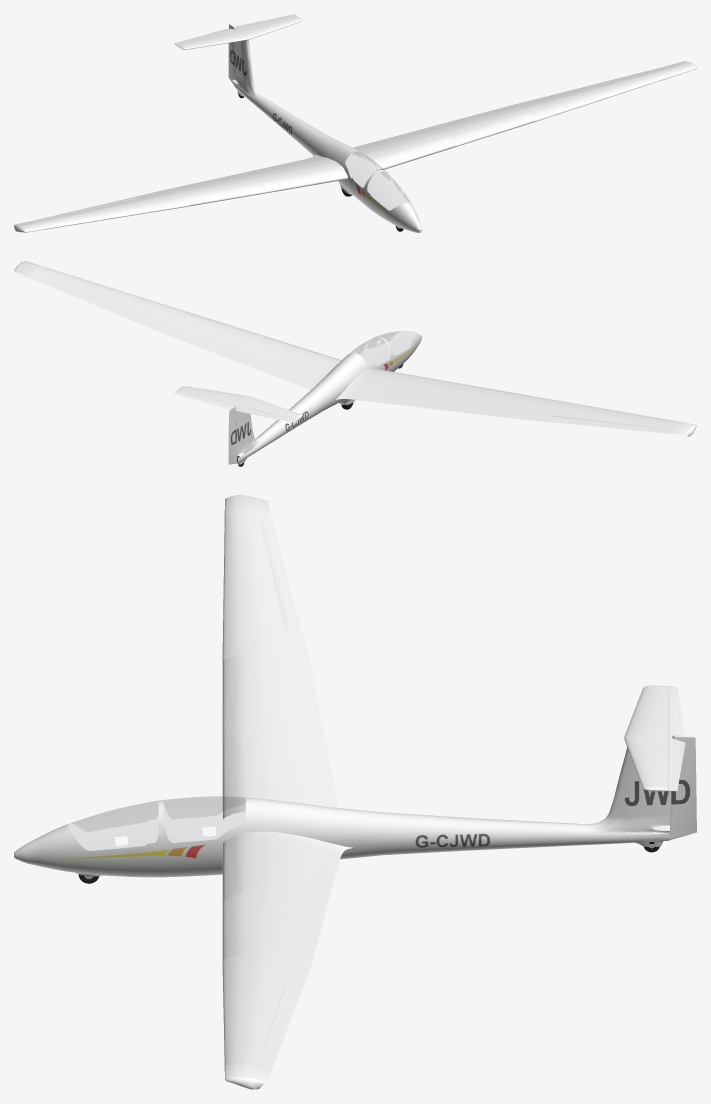
The model's file is G-CJWD.gltf.
3 views of the same model, one above another, from view 1: azimuth 30°, elevation 25°; view 2: azimuth 150°, elevation 25°; view 3: azimuth 270°, elevation 25° (orthographic). The views are drawn at different scales.
Visible parts, largest first — view 1: Exterior, XLive_2; view 2: Exterior, XLive_0, XLive_1, XLive_2, XLive_3; view 3: Exterior, XLive_3, XLive_1, XLive_2, XLive_0.
Boxes of the visible parts, x1,y1,x2,y2 form: Exterior: [14, 15, 696, 232]; XLive_2: [174, 14, 296, 44]; Exterior: [14, 261, 696, 466]; XLive_0: [31, 274, 138, 320]; XLive_1: [546, 416, 668, 433]; XLive_2: [174, 391, 296, 422]; XLive_3: [228, 405, 237, 464]; Exterior: [14, 495, 671, 1089]; XLive_3: [670, 734, 696, 839]; XLive_1: [258, 516, 302, 632]; XLive_2: [668, 686, 685, 791]; XLive_0: [258, 985, 302, 1069].
Size of the model in its own units: 16.92 by 2.06 by 8.34.
Materials: 4 (3 with a texture image).
